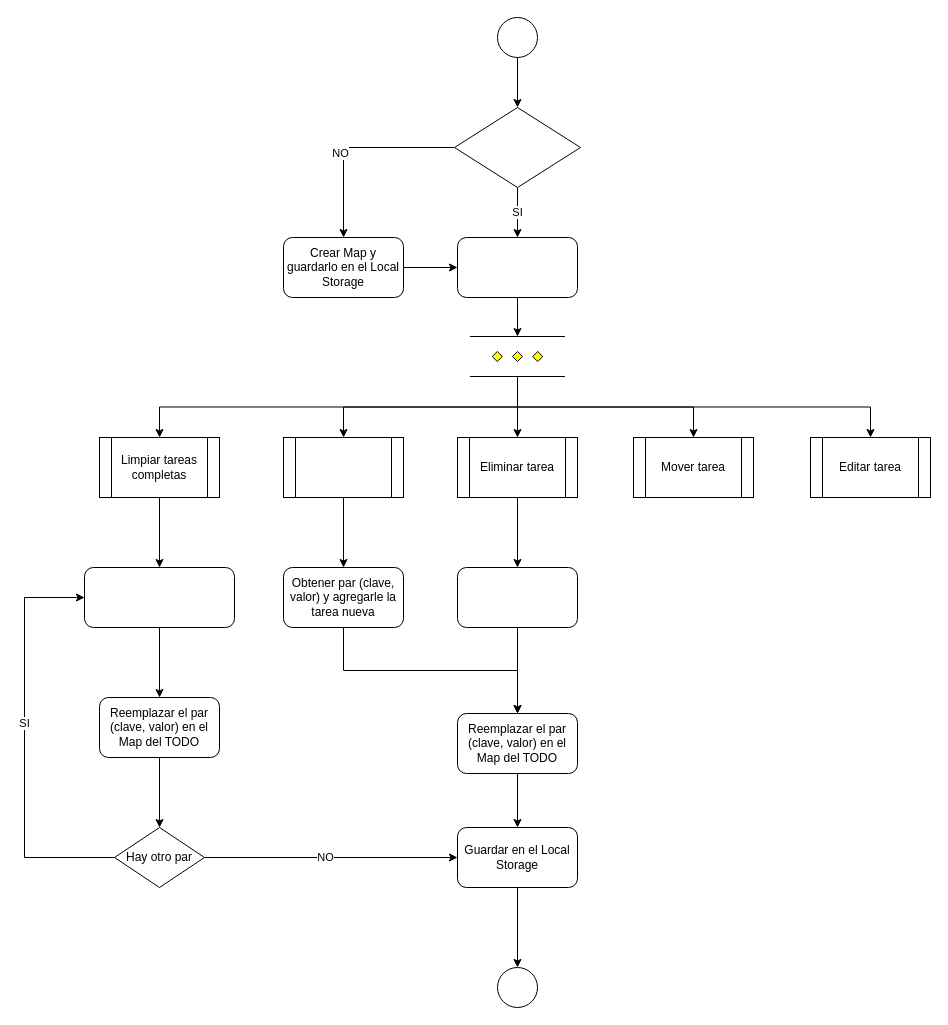
The diagram is 948 pixels wide and 1025 high, and some of its shapes have lost their labels. Here are the shapes that lost their labels. From the top down, the centre of each, then its label:
the point at 517,147: Hay data Local Storage
the point at 517,267: Cargar TODO desde el Local Storage
the point at 343,467: Agregar nueva tarea
the point at 159,597: Obtener próximo par (clave, valor) y quitar las tareas completas
the point at 517,597: Obtener par (clave, valor) y eliminar la tarea
